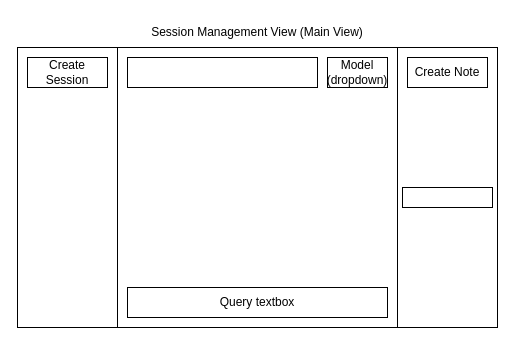
The diagram is 515 pixels wide and 345 high, and some of its shapes have lost their labels. Each missing label, with the centre of its shape:
"Note Title" goes at (x=447, y=197).
"Session Title" goes at (x=222, y=72).
